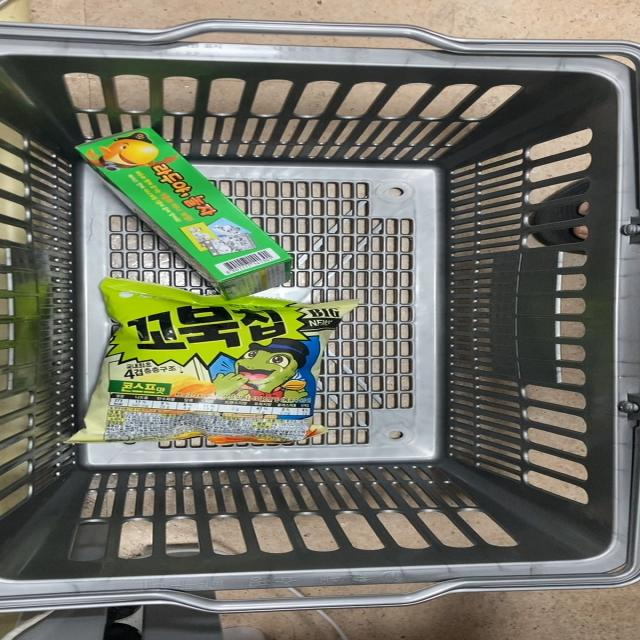ggobukchip: (78, 272, 352, 450)
goraebob: (54, 119, 314, 294)
